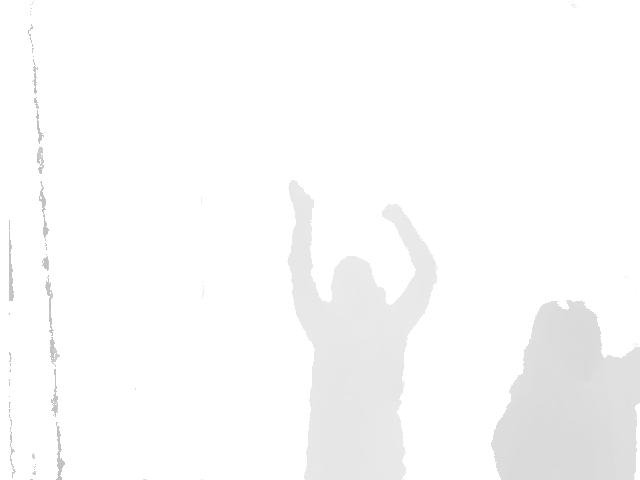hand: (288, 179, 314, 219), (381, 203, 412, 228)
head: (525, 299, 603, 388), (332, 255, 376, 307)
person: (285, 179, 439, 480), (490, 299, 640, 480)
